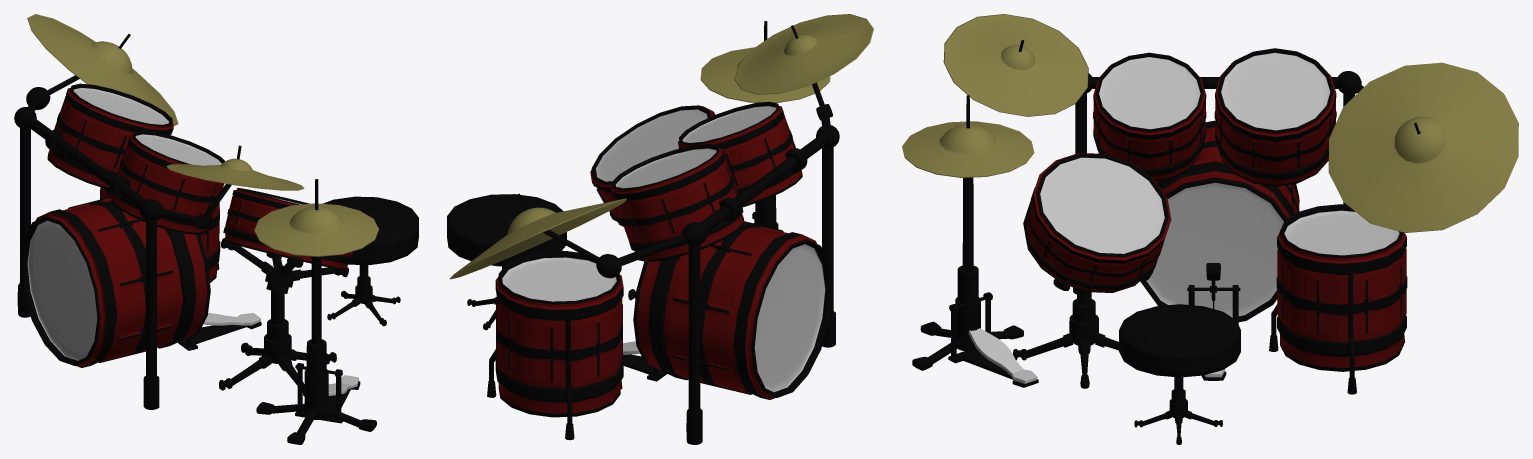
File: _RUMSv1.fbx
3 views of the same model, side by side, from view 1: azimuth 30°, elevation 25°; view 2: azimuth 150°, elevation 25°; view 3: azimuth 270°, elevation 25° (orthographic). The views are drawn at different scales.
Parts seen in each view (by area): view 1: drum4, stalak, drum3, drum2, drumkit.008, cinela3, stolicica, nozice, drum1, cinela2, drum5; view 2: drum4, drum5, stalak, drum3, cinela2, drum2, stolicica, drum1, cinela3, drumkit.008, no`ice2; view 3: cinela3, drum5, drum4, drum1, drum3, drum2, cinela2, stalak, stolicica, drumkit.008, nozice, no`ice2.
Part boxes in pixels (left/top/right/bottom): drum4: left=20, top=197, right=210, bottom=367; stalak: left=14, top=34, right=376, bottom=444; drum3: left=47, top=83, right=173, bottom=189; drum2: left=111, top=130, right=224, bottom=234; drumkit.008: left=254, top=203, right=378, bottom=256; cinela3: left=27, top=14, right=178, bottom=125; stolicica: left=322, top=196, right=418, bottom=326; nozice: left=219, top=238, right=348, bottom=396; drum1: left=223, top=187, right=353, bottom=270; cinela2: left=166, top=158, right=304, bottom=190; drum5: left=100, top=187, right=220, bottom=282; drum4: left=633, top=221, right=832, bottom=399; drum5: left=495, top=251, right=623, bottom=417; stalak: left=517, top=21, right=839, bottom=444; drum3: left=610, top=144, right=744, bottom=261; cinela2: left=734, top=14, right=873, bottom=94; drum2: left=678, top=101, right=802, bottom=206; stolicica: left=447, top=194, right=566, bottom=330; drum1: left=590, top=105, right=715, bottom=226; cinela3: left=449, top=198, right=626, bottom=279; drumkit.008: left=700, top=47, right=830, bottom=102; no`ice2: left=487, top=318, right=622, bottom=440; cinela3: left=1328, top=62, right=1518, bottom=232; drum5: left=1276, top=204, right=1407, bottom=371; drum4: left=1140, top=121, right=1299, bottom=322; drum1: left=1023, top=153, right=1171, bottom=292; drum3: left=1214, top=48, right=1336, bottom=186; drum2: left=1093, top=52, right=1206, bottom=181; cinela2: left=943, top=14, right=1088, bottom=116; stalak: left=912, top=40, right=1420, bottom=387; stolicica: left=1119, top=304, right=1240, bottom=444; drumkit.008: left=902, top=121, right=1034, bottom=177; nozice: left=1013, top=269, right=1153, bottom=388; no`ice2: left=1269, top=272, right=1404, bottom=394.
Bounding box in the file's own units: 4.96 × 3.77 × 7.39.
